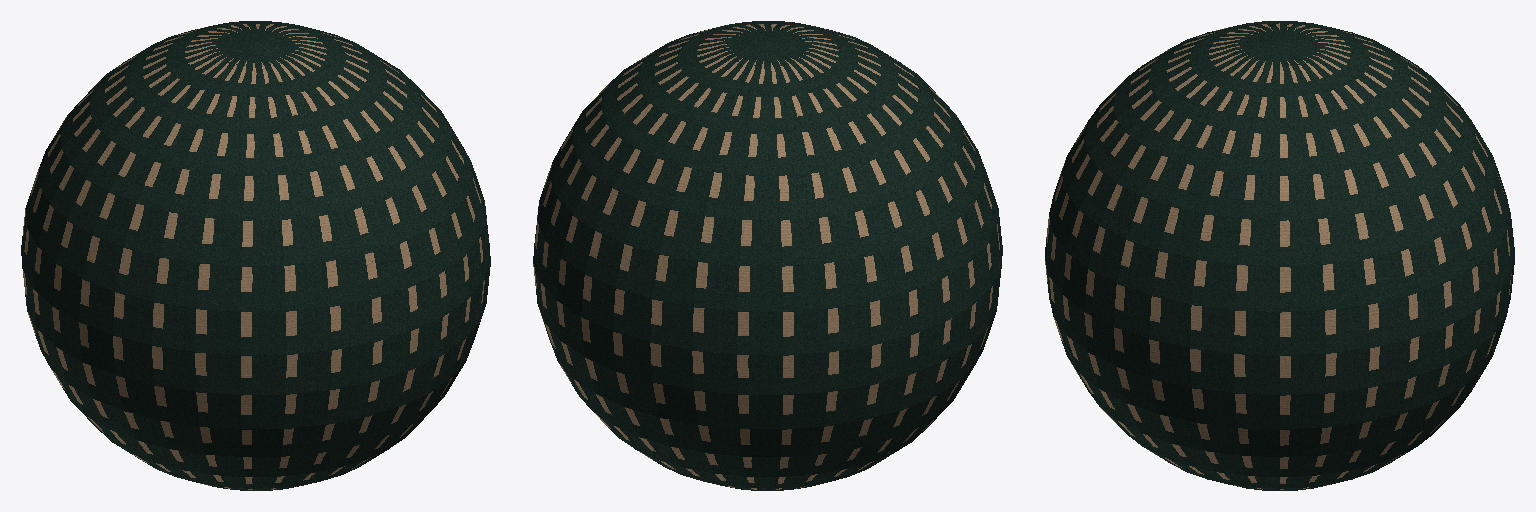
3 views of the same model, side by side, from view 1: azimuth 30°, elevation 25°; view 2: azimuth 150°, elevation 25°; view 3: azimuth 270°, elevation 25° (orthographic).
Parts seen in each view (by area): view 1: Sphere; view 2: Sphere; view 3: Sphere.
Part boxes in pixels (x1,y1,x2,y2): Sphere: (21,21,490,490); Sphere: (533,21,1002,490); Sphere: (1045,21,1514,490).
Bounding box in the file's own units: 2000 × 2000 × 2000.
Materials: 1 (1 with a texture image).